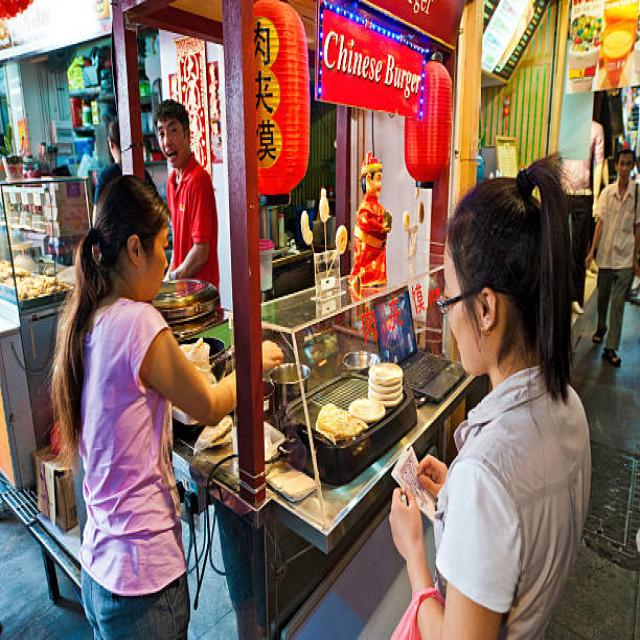Emperan: (68, 0, 518, 640)
